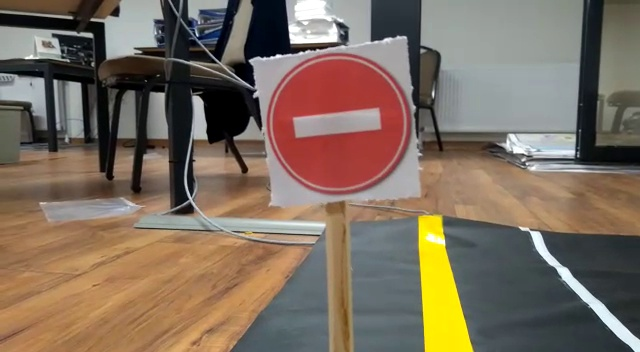girisi_olmayan_yol: (265, 49, 413, 197)
